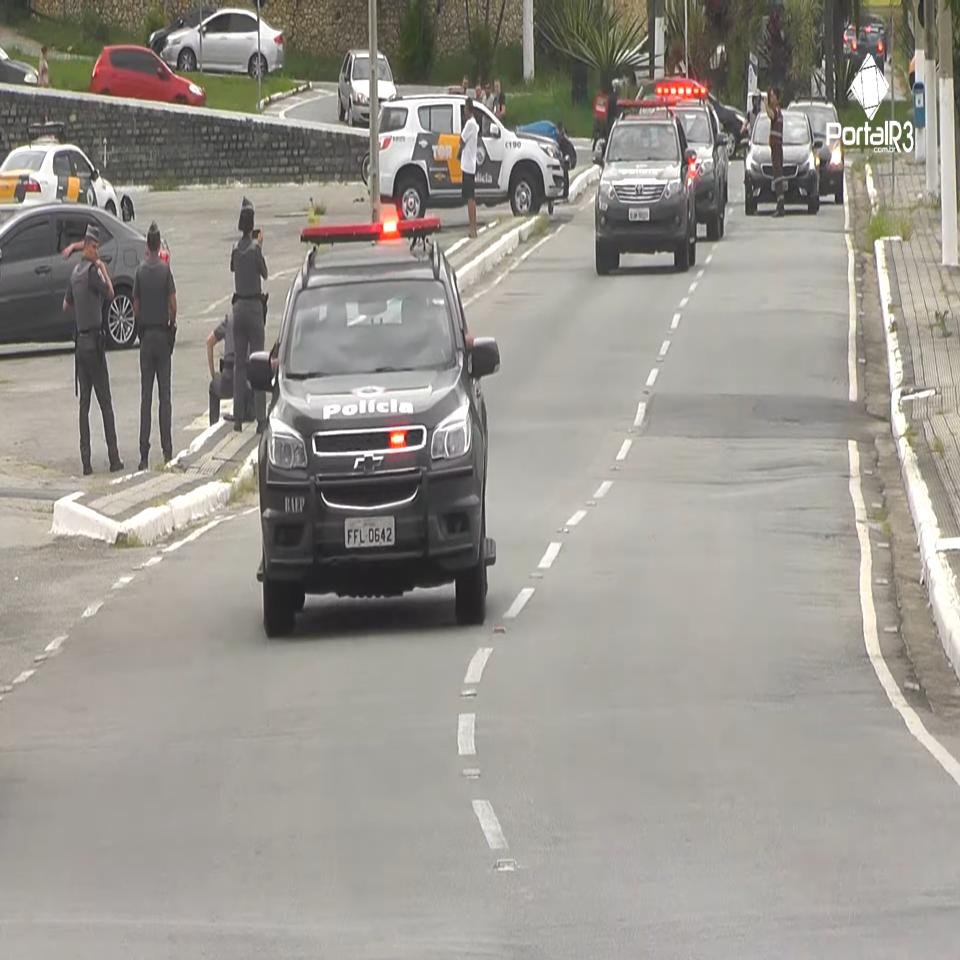viatura: (244, 215, 506, 639), (590, 92, 697, 272)
